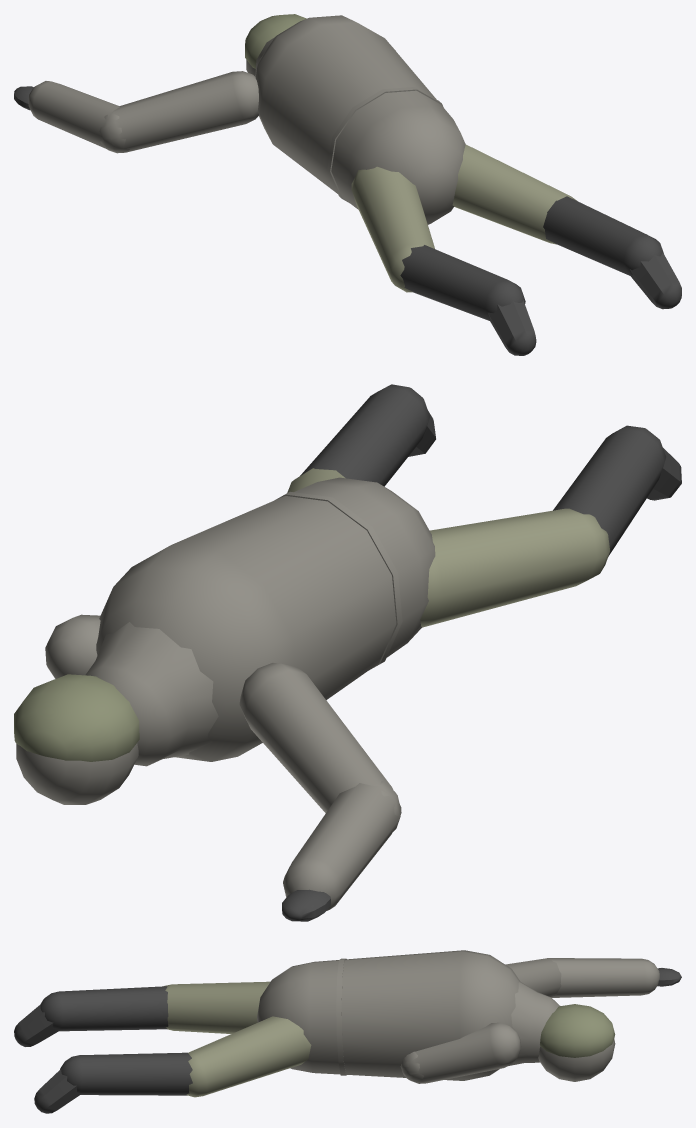
The model's file is remains_lying.glb.
3 views of the same model, one above another, from view 1: azimuth 30°, elevation 25°; view 2: azimuth 150°, elevation 25°; view 3: azimuth 270°, elevation 25° (orthographic). The views are drawn at different scales.
Parts seen in each view (by area): view 1: static; view 2: static; view 3: static.
Part boxes in pixels (x1,y1,x2,y2): static: [14, 14, 681, 355]; static: [14, 384, 681, 921]; static: [14, 950, 681, 1113].
Size of the model in its own units: 0.9223 by 0.3964 by 1.99.
